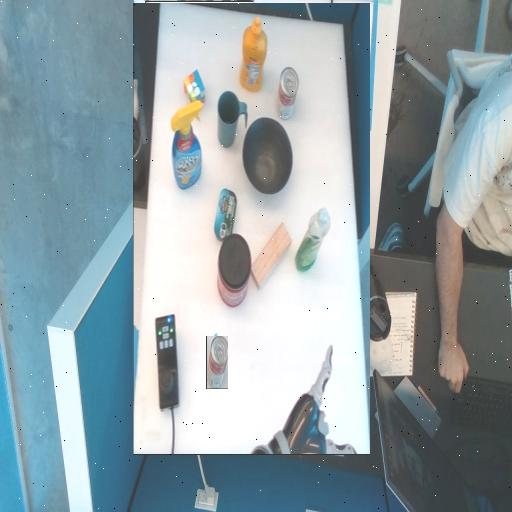bowl: (212, 262, 261, 337)
cleanser: (174, 186, 209, 248)
coffee_can: (254, 149, 286, 221)
jaco: (145, 2, 253, 109)
meat_can: (267, 230, 289, 252)
mug: (257, 322, 286, 351)
mustard_bottle: (239, 365, 263, 437)
rubik: (299, 359, 320, 381)
soup_can: (207, 336, 227, 388)
windex: (302, 268, 333, 355)
wooden_block: (213, 166, 253, 232)
workspace: (134, 3, 370, 454)
